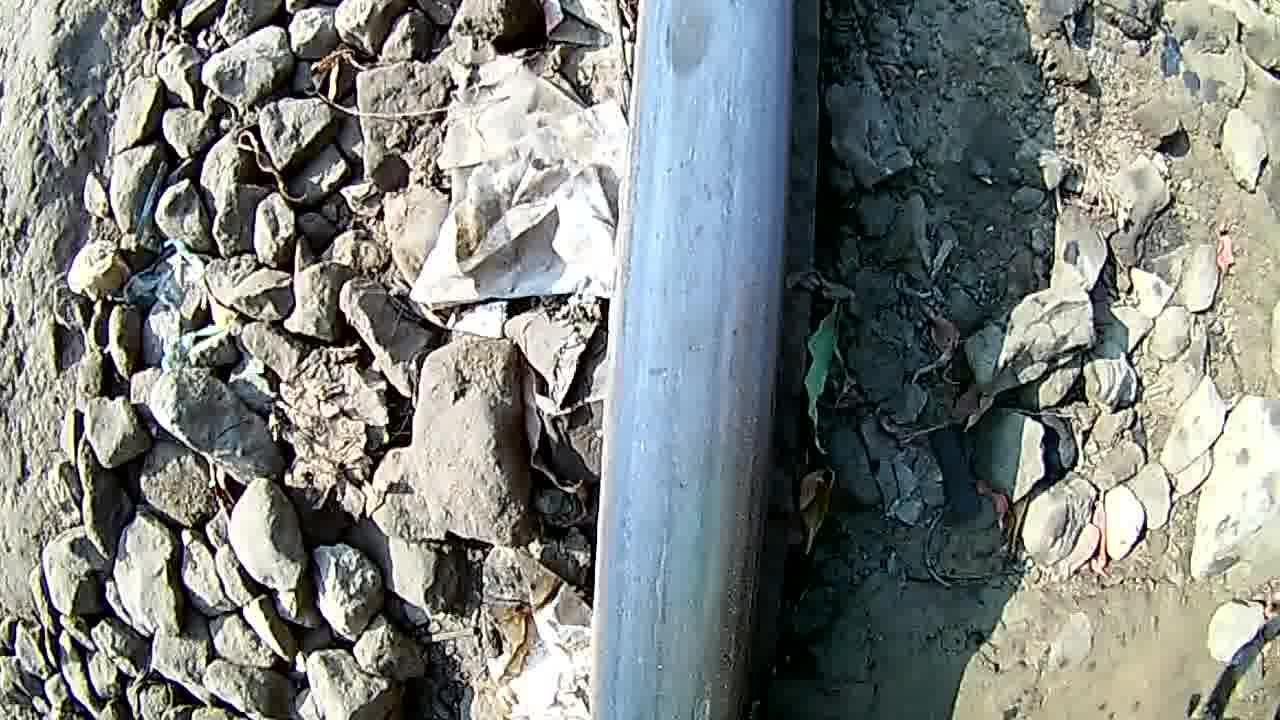bolt_missing: (627, 0, 742, 98)
